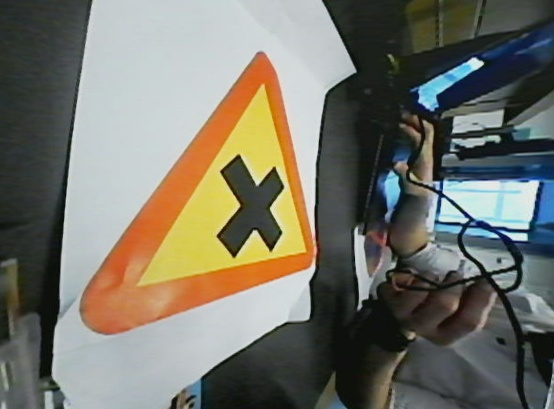junction: (82, 50, 322, 333)
